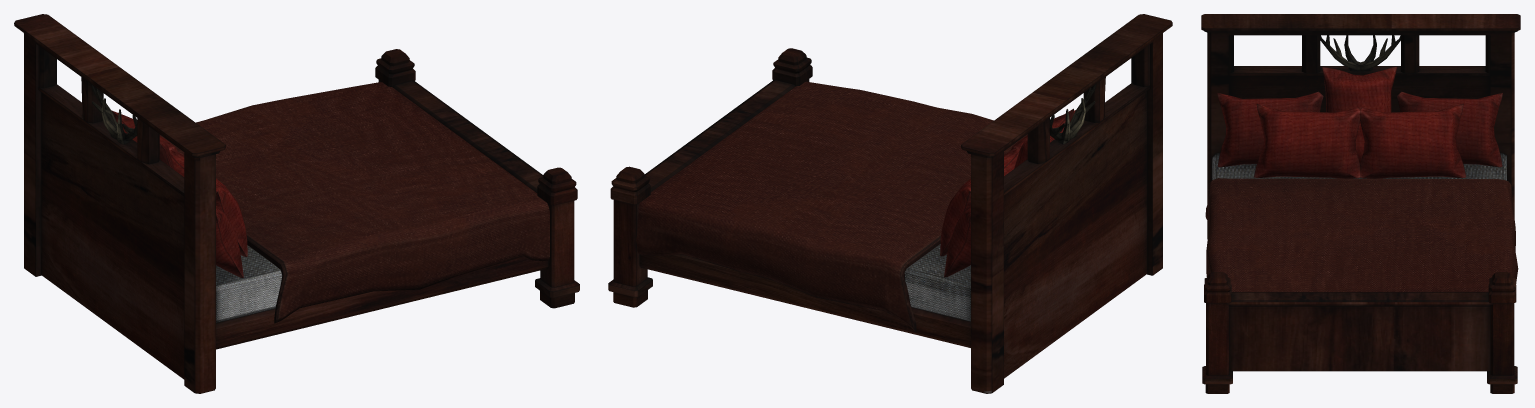
The model's file is prop_cabinbed.fbx.
3 views of the same model, side by side, from view 1: azimuth 30°, elevation 25°; view 2: azimuth 150°, elevation 25°; view 3: azimuth 270°, elevation 25° (orthographic). The views are drawn at different scales.
Parts seen in each view (by area): view 1: bed, blanket, pillow2, pillow1; view 2: bed, blanket, pillow4, pillow3; view 3: bed, blanket, pillow4, pillow2, pillow1, pillow3, pillow.
Boxes of the visible parts, x1=… form: bed: x1=14, y1=14, x2=579, y2=393; blanket: x1=159, y1=82, x2=549, y2=323; pillow2: x1=169, y1=149, x2=247, y2=257; pillow1: x1=216, y1=206, x2=243, y2=277; bed: x1=608, y1=14, x2=1172, y2=393; blanket: x1=636, y1=81, x2=1027, y2=332; pillow4: x1=940, y1=149, x2=1019, y2=256; pillow3: x1=944, y1=206, x2=970, y2=277; bed: x1=1201, y1=14, x2=1520, y2=393; blanket: x1=1205, y1=178, x2=1518, y2=292; pillow4: x1=1360, y1=103, x2=1466, y2=178; pillow2: x1=1254, y1=103, x2=1359, y2=178; pillow1: x1=1217, y1=91, x2=1323, y2=167; pillow3: x1=1396, y1=91, x2=1502, y2=167; pillow: x1=1322, y1=66, x2=1397, y2=164.
Size of the model in its own units: 0.0313 by 0.0188 by 0.0254.
Materials: 1 (1 with a texture image).
